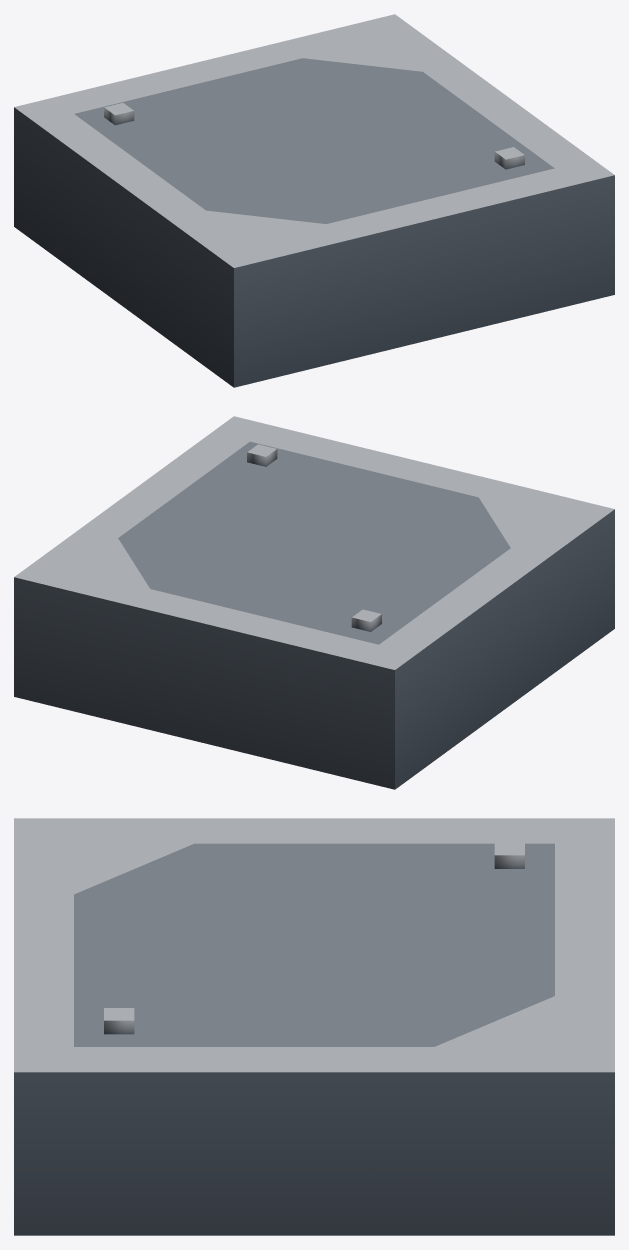
Rendered from floor-detail.glb.
The picture shows the model from 3 angles, top to bottom: view 1: azimuth 30°, elevation 25°; view 2: azimuth 150°, elevation 25°; view 3: azimuth 270°, elevation 25°; orthographic projection. The views are drawn at different scales.
Parts seen in each view (by area): view 1: floor-detail; view 2: floor-detail; view 3: floor-detail.
Boxes of the visible parts, bbox=[...] form: floor-detail: bbox=[14, 14, 614, 387]; floor-detail: bbox=[14, 416, 614, 789]; floor-detail: bbox=[14, 818, 614, 1235].
Size of the model in its own units: 1 by 0.325 by 1.
